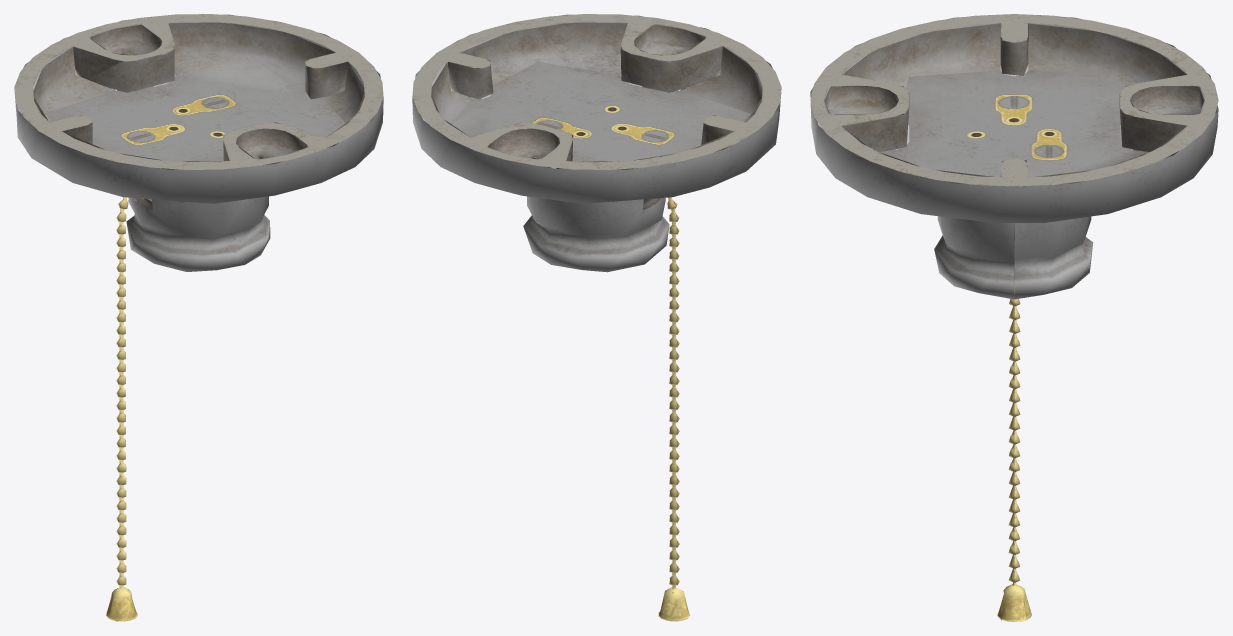
Rendered from pull_chain_light_socket.fbx.
3 views of the same model, side by side, from view 1: azimuth 30°, elevation 25°; view 2: azimuth 150°, elevation 25°; view 3: azimuth 270°, elevation 25° (orthographic). The views are drawn at different scales.
Visible parts, largest first — view 1: pull_chain_light_socket, pull_chain_light_socket_chain; view 2: pull_chain_light_socket, pull_chain_light_socket_chain; view 3: pull_chain_light_socket, pull_chain_light_socket_chain.
Part boxes in pixels (x1=…): pull_chain_light_socket: x1=14, y1=14, x2=383, y2=271; pull_chain_light_socket_chain: x1=106, y1=197, x2=137, y2=621; pull_chain_light_socket: x1=412, y1=14, x2=781, y2=272; pull_chain_light_socket_chain: x1=658, y1=197, x2=689, y2=621; pull_chain_light_socket: x1=810, y1=14, x2=1218, y2=299; pull_chain_light_socket_chain: x1=997, y1=294, x2=1031, y2=621.
Size of the model in its own units: 11.01 by 16.57 by 11.01.
Materials: 1 (1 with a texture image).
